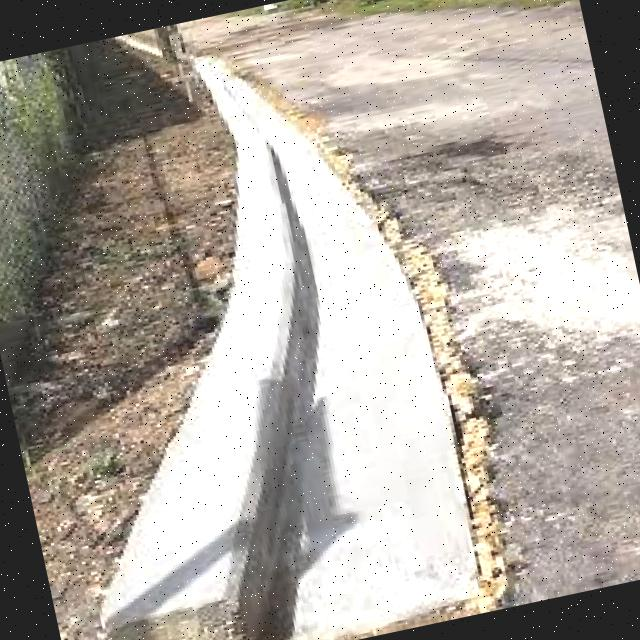curb: (101, 55, 484, 640)
